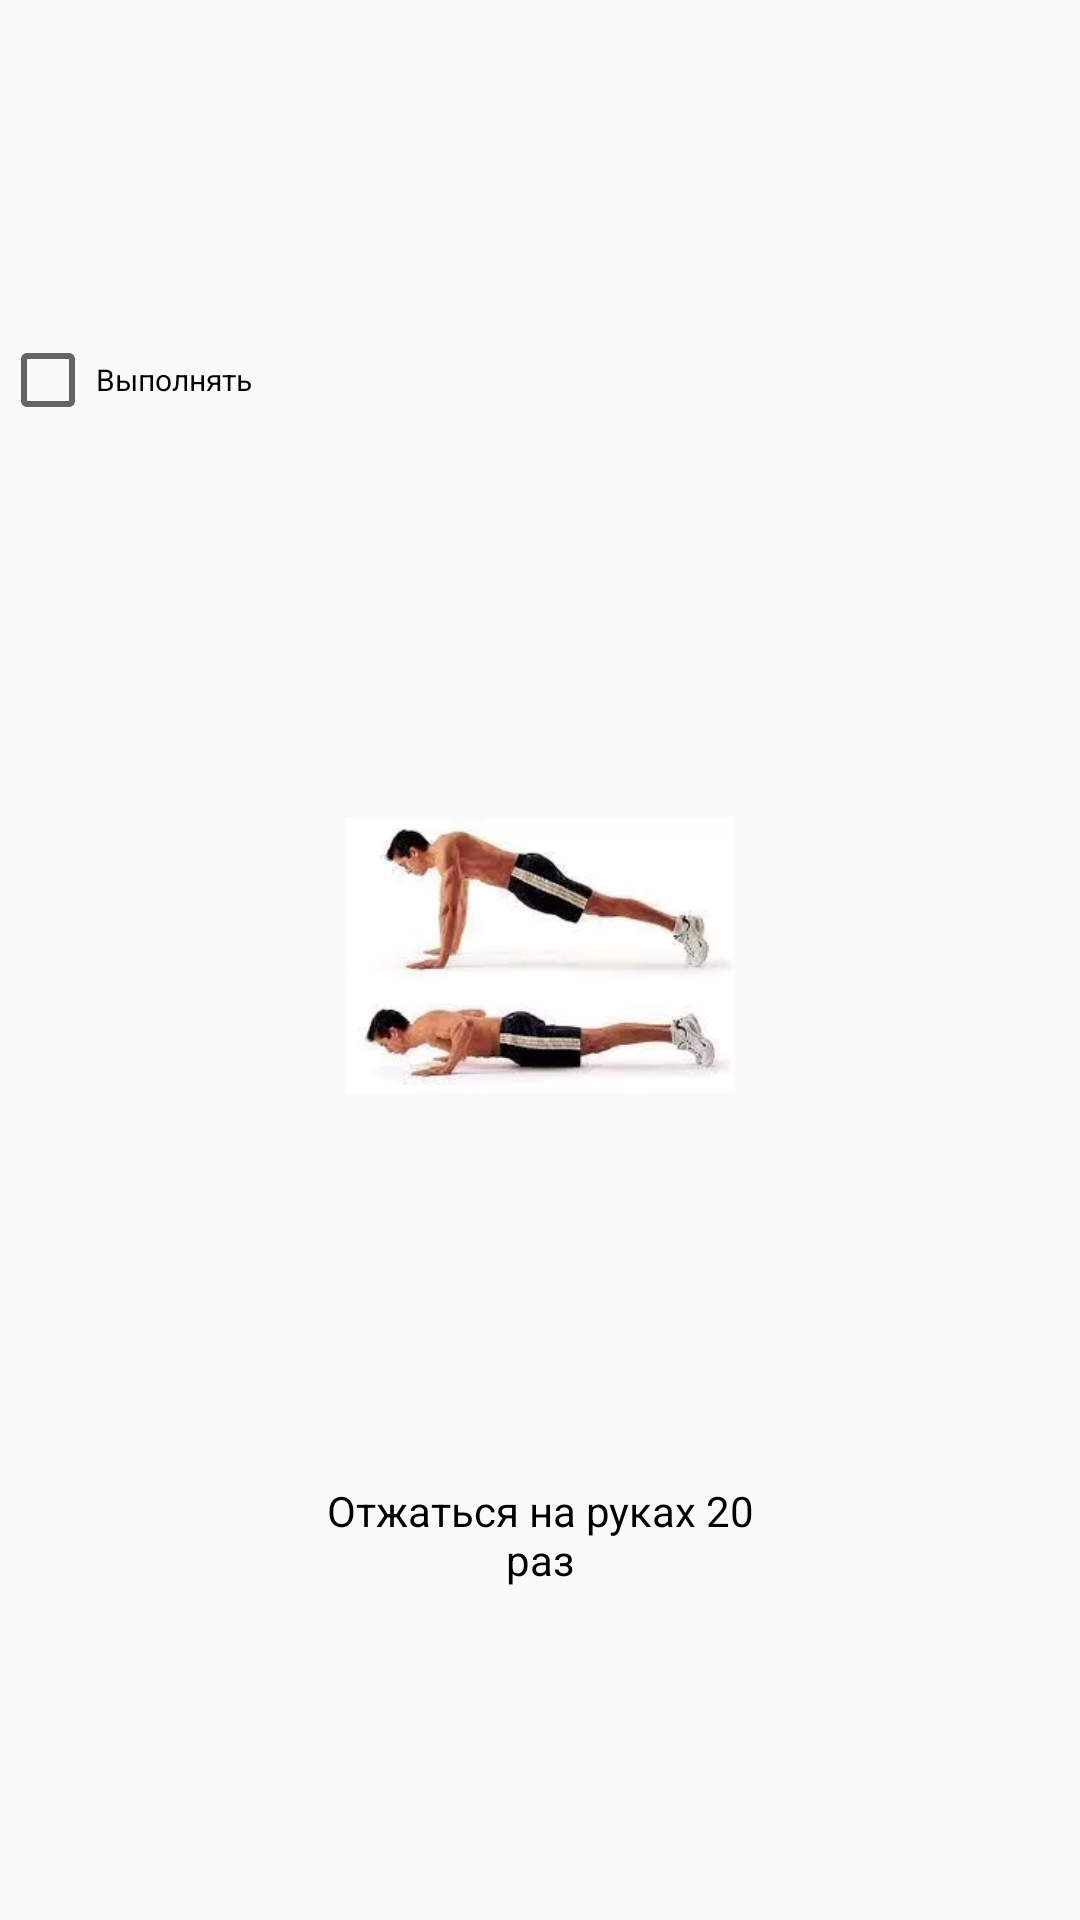

Icon bounding boxes for this 1080 × 1920 phone screenshot, format (x1, y1, x2, y2):
push up: (365, 829, 721, 1078)
